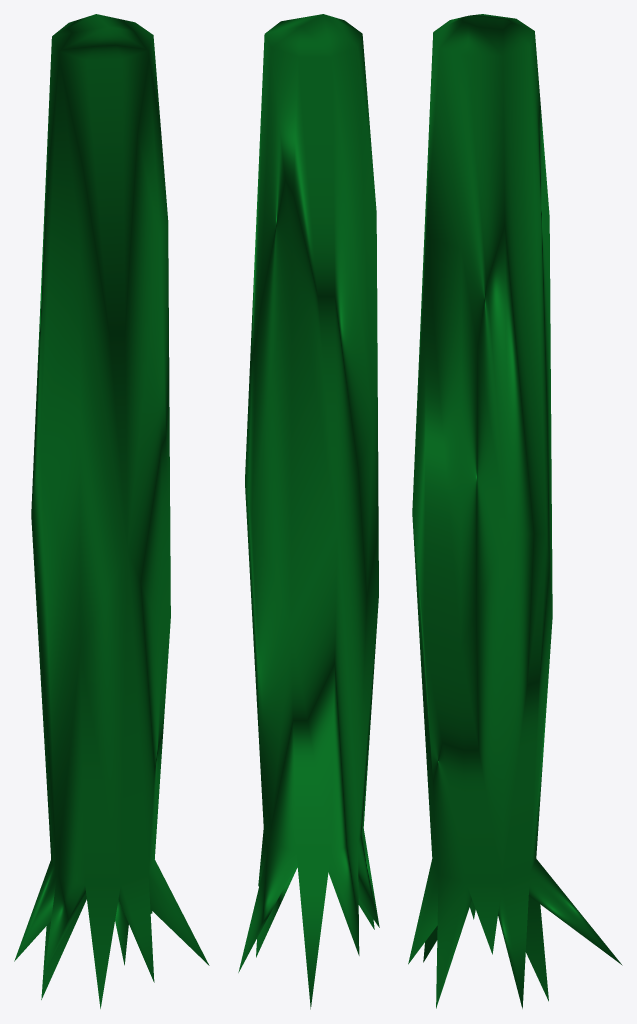
File: SeguaroCactusMedium1_LOD1.obj
3 views of the same model, side by side, from view 1: azimuth 30°, elevation 25°; view 2: azimuth 150°, elevation 25°; view 3: azimuth 270°, elevation 25° (orthographic). The views are drawn at different scales.
Parts seen in each view (by area): view 1: SeguaroCactusMedium1_LOD1; view 2: SeguaroCactusMedium1_LOD1; view 3: SeguaroCactusMedium1_LOD1.
Part boxes in pixels (x1,y1,x2,y2): SeguaroCactusMedium1_LOD1: (14, 14, 209, 1008); SeguaroCactusMedium1_LOD1: (238, 14, 379, 1009); SeguaroCactusMedium1_LOD1: (408, 14, 622, 1008).
Size of the model in its own units: 36.75 by 232 by 45.19.
